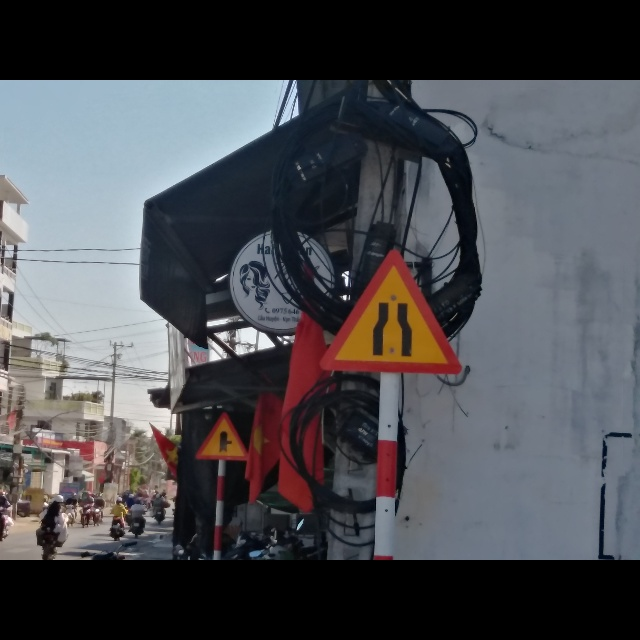Giao nhau với đường không ưu tiên: (193, 409, 252, 461)
Đường bị hẹp cả hai bên: (319, 252, 467, 376)
